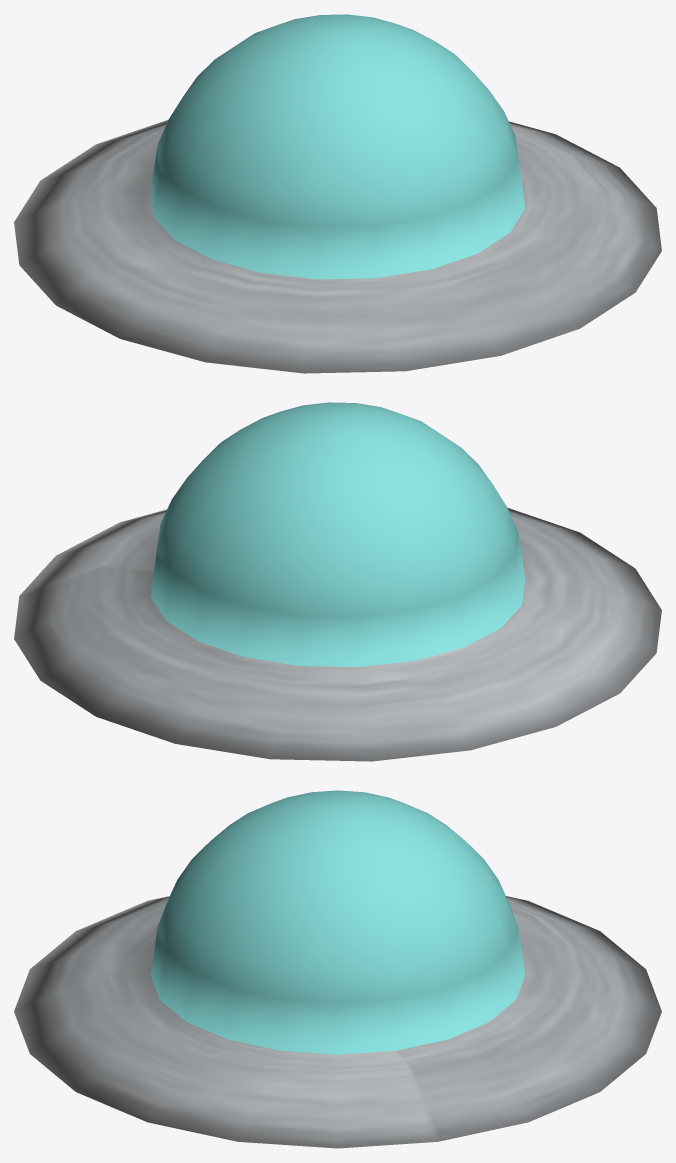
File: Nave.obj
3 views of the same model, one above another, from view 1: azimuth 30°, elevation 25°; view 2: azimuth 150°, elevation 25°; view 3: azimuth 270°, elevation 25° (orthographic).
Visible parts, largest first — view 1: pSphere13; view 2: pSphere13; view 3: pSphere13.
Part boxes in pixels (bbox=[...]): pSphere13: bbox=[14, 14, 661, 373]; pSphere13: bbox=[14, 402, 661, 761]; pSphere13: bbox=[14, 790, 661, 1148].
Bounding box in the file's own units: 2.77 × 1.43 × 2.77.
